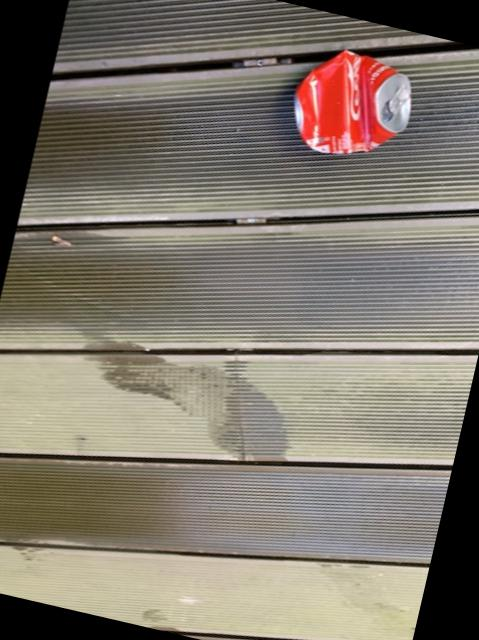metal: (291, 51, 407, 154)
